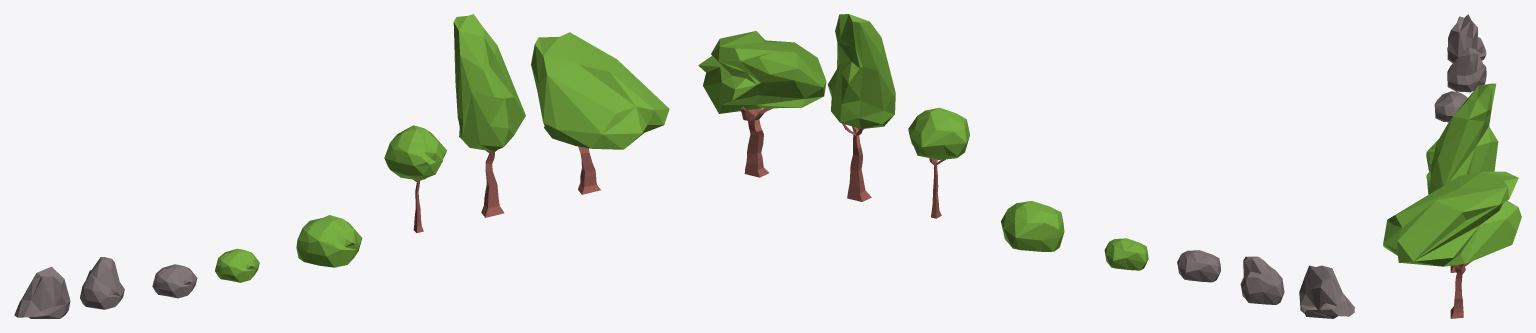
The model's file is landscape_elements.gltf.
3 renders of one model, left to right at view 1: azimuth 30°, elevation 25°; view 2: azimuth 150°, elevation 25°; view 3: azimuth 270°, elevation 25°, orthographic. The views are drawn at different scales.
Visible parts, largest first — view 1: Icosphere.002, Icosphere.001, bush01, Icosphere, stone03, stone02, bush02, stone01, tree02, tree03; view 2: Icosphere.002, Icosphere.001, bush01, Icosphere, stone03, stone02, stone01, bush02, tree03, tree02; view 3: Icosphere.002, Icosphere.001, stone02, stone03, stone01, tree03, Icosphere.
Part boxes in pixels (bbox=[...]): Icosphere.002: bbox=[531, 32, 669, 149]; Icosphere.001: bbox=[453, 14, 525, 151]; bush01: bbox=[296, 215, 362, 267]; Icosphere: bbox=[384, 125, 446, 180]; stone03: bbox=[14, 266, 70, 318]; stone02: bbox=[80, 257, 124, 309]; bush02: bbox=[215, 248, 259, 282]; stone01: bbox=[152, 264, 197, 298]; tree02: bbox=[481, 150, 504, 217]; tree03: bbox=[578, 146, 600, 194]; Icosphere.002: bbox=[698, 31, 826, 113]; Icosphere.001: bbox=[827, 14, 895, 128]; bush01: bbox=[1001, 201, 1064, 251]; Icosphere: bbox=[908, 107, 969, 159]; stone03: bbox=[1299, 265, 1354, 318]; stone02: bbox=[1240, 256, 1284, 304]; stone01: bbox=[1177, 250, 1221, 282]; bush02: bbox=[1104, 238, 1148, 270]; tree03: bbox=[741, 106, 772, 177]; tree02: bbox=[842, 123, 871, 201]; Icosphere.002: bbox=[1383, 171, 1521, 266]; Icosphere.001: bbox=[1430, 83, 1498, 193]; stone02: bbox=[1447, 48, 1486, 92]; stone03: bbox=[1447, 14, 1486, 63]; stone01: bbox=[1434, 91, 1467, 122]; tree03: bbox=[1450, 261, 1471, 318]; Icosphere: bbox=[1426, 139, 1438, 171].
Bounding box in the file's own units: 27.15 × 7.85 × 5.41.
Materials: 1 (1 with a texture image).
